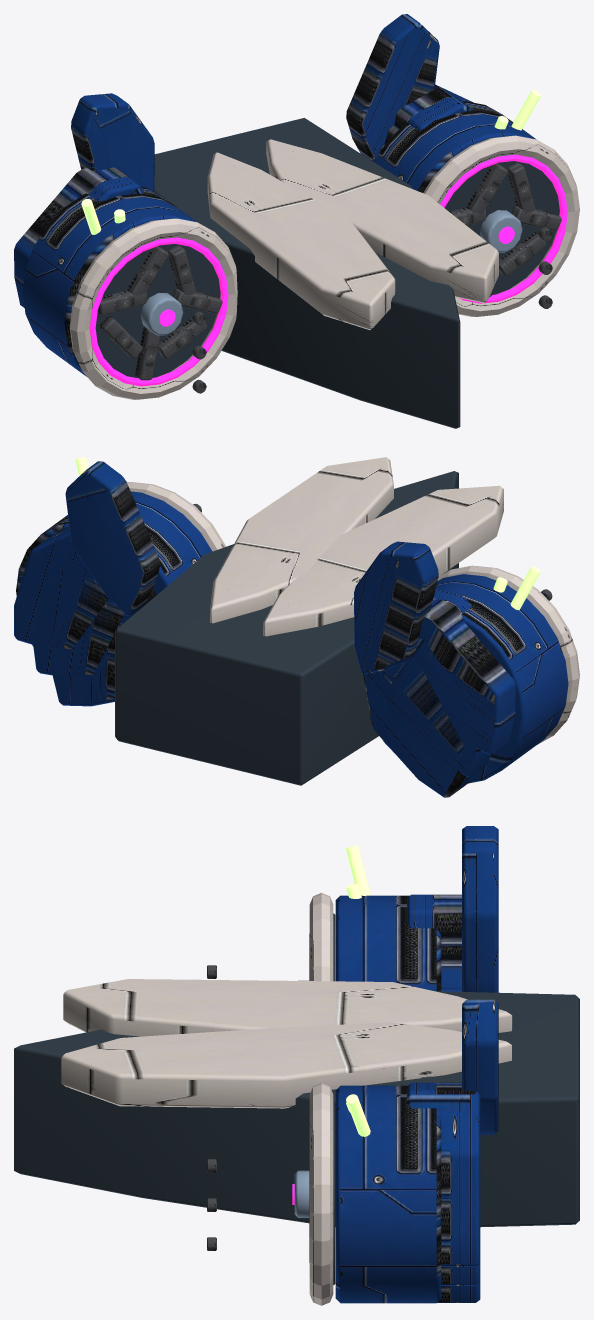
The model's file is sector_02_4.glb.
3 renders of one model, top to bottom at view 1: azimuth 30°, elevation 25°; view 2: azimuth 150°, elevation 25°; view 3: azimuth 270°, elevation 25°, orthographic. The views are drawn at different scales.
Visible parts, largest first — view 1: Split arrow nose, Pointed interceptor chassis, Swept dorsal vane, Turbine impeller blade, Turbine running light, Turbine hub, Luminous sap channel; view 2: Swept dorsal vane, Pointed interceptor chassis, Split arrow nose, Luminous sap channel; view 3: Pointed interceptor chassis, Swept dorsal vane, Split arrow nose, Luminous sap channel, Turbine hub, Turbine impeller blade.
Part boxes in pixels (x1=…): Split arrow nose: x1=69, y1=135, x2=579, y2=399; Pointed interceptor chassis: x1=95, y1=118, x2=559, y2=428; Swept dorsal vane: x1=14, y1=14, x2=536, y2=376; Turbine impeller blade: x1=97, y1=162, x2=561, y2=393; Turbine running light: x1=89, y1=154, x2=567, y2=386; Turbine hub: x1=140, y1=210, x2=522, y2=335; Luminous sap channel: x1=81, y1=90, x2=541, y2=234; Swept dorsal vane: x1=14, y1=461, x2=568, y2=797; Pointed interceptor chassis: x1=115, y1=471, x2=458, y2=785; Split arrow nose: x1=127, y1=457, x2=579, y2=744; Luminous sap channel: x1=75, y1=457, x2=540, y2=609; Pointed interceptor chassis: x1=14, y1=913, x2=579, y2=1285; Swept dorsal vane: x1=335, y1=826, x2=498, y2=1303; Split arrow nose: x1=61, y1=893, x2=512, y2=1305; Luminous sap channel: x1=346, y1=845, x2=370, y2=1136; Turbine hub: x1=294, y1=980, x2=309, y2=1217; Turbine impeller blade: x1=207, y1=934, x2=309, y2=1262.
Size of the model in its own units: 1.47 by 0.6893 by 1.23.
7 materials, 3 textured.
